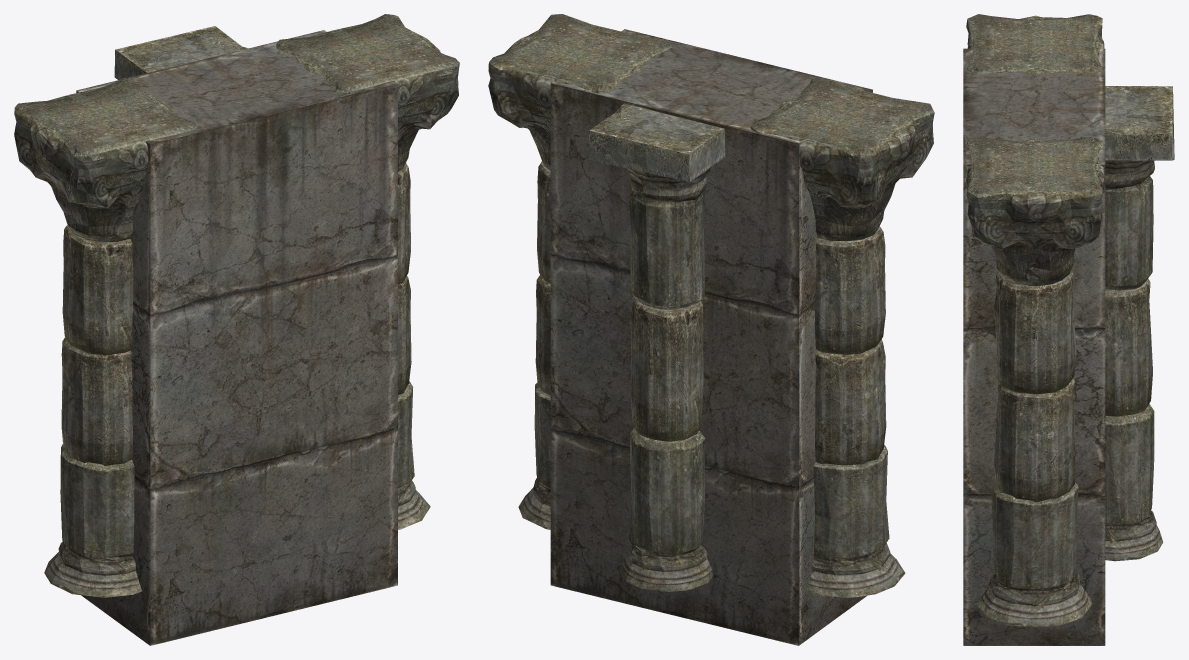
File: bg_lut_lutomb_gate02b_sm_phs.FBX
The picture shows the model from 3 angles, left to right: view 1: azimuth 30°, elevation 25°; view 2: azimuth 150°, elevation 25°; view 3: azimuth 270°, elevation 25°; orthographic projection. The views are drawn at different scales.
Parts seen in each view (by area): view 1: bg_lut_lutomb_gate02b_sm_phs; view 2: bg_lut_lutomb_gate02b_sm_phs; view 3: bg_lut_lutomb_gate02b_sm_phs.
Part boxes in pixels (x1=…): bg_lut_lutomb_gate02b_sm_phs: x1=14, y1=14, x2=459, y2=645; bg_lut_lutomb_gate02b_sm_phs: x1=488, y1=14, x2=934, y2=645; bg_lut_lutomb_gate02b_sm_phs: x1=963, y1=14, x2=1174, y2=645.
Size of the model in its own units: 199 by 245 by 96.52.
